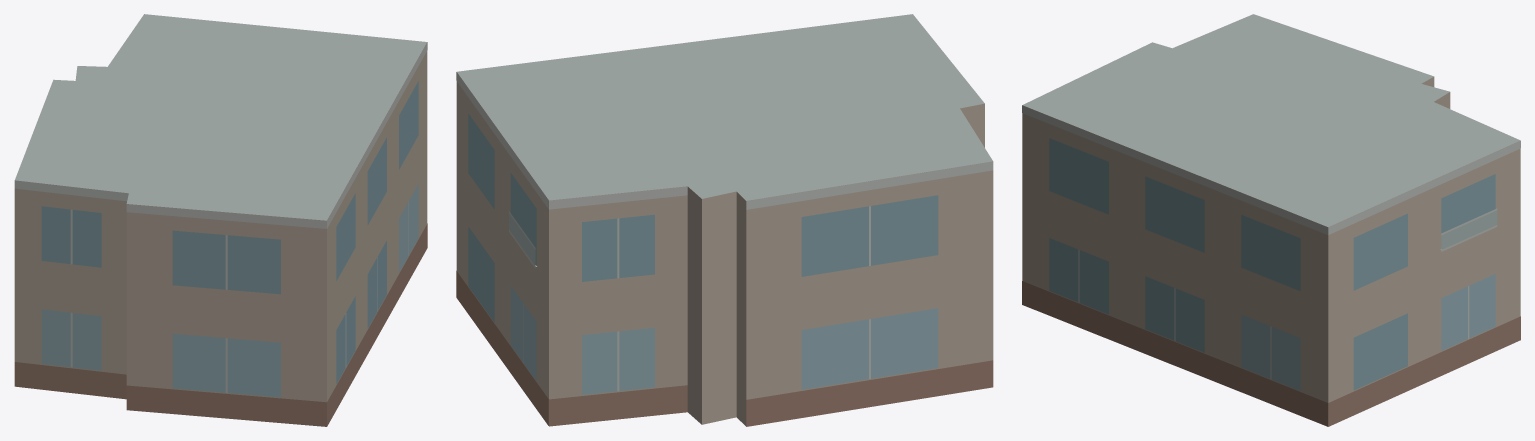
The model's file is survey-upis-33005746.glb.
3 views of the same model, side by side, from view 1: azimuth 30°, elevation 25°; view 2: azimuth 150°, elevation 25°; view 3: azimuth 270°, elevation 25° (orthographic). The views are drawn at different scales.
Parts seen in each view (by area): view 1: survey-upis-33005746.tmp; view 2: survey-upis-33005746.tmp; view 3: survey-upis-33005746.tmp.
Part boxes in pixels (x1=…): survey-upis-33005746.tmp: x1=14, y1=14, x2=427, y2=426; survey-upis-33005746.tmp: x1=456, y1=14, x2=993, y2=426; survey-upis-33005746.tmp: x1=1022, y1=14, x2=1520, y2=426.
Size of the model in its own units: 13.98 by 6.1 by 13.81.
